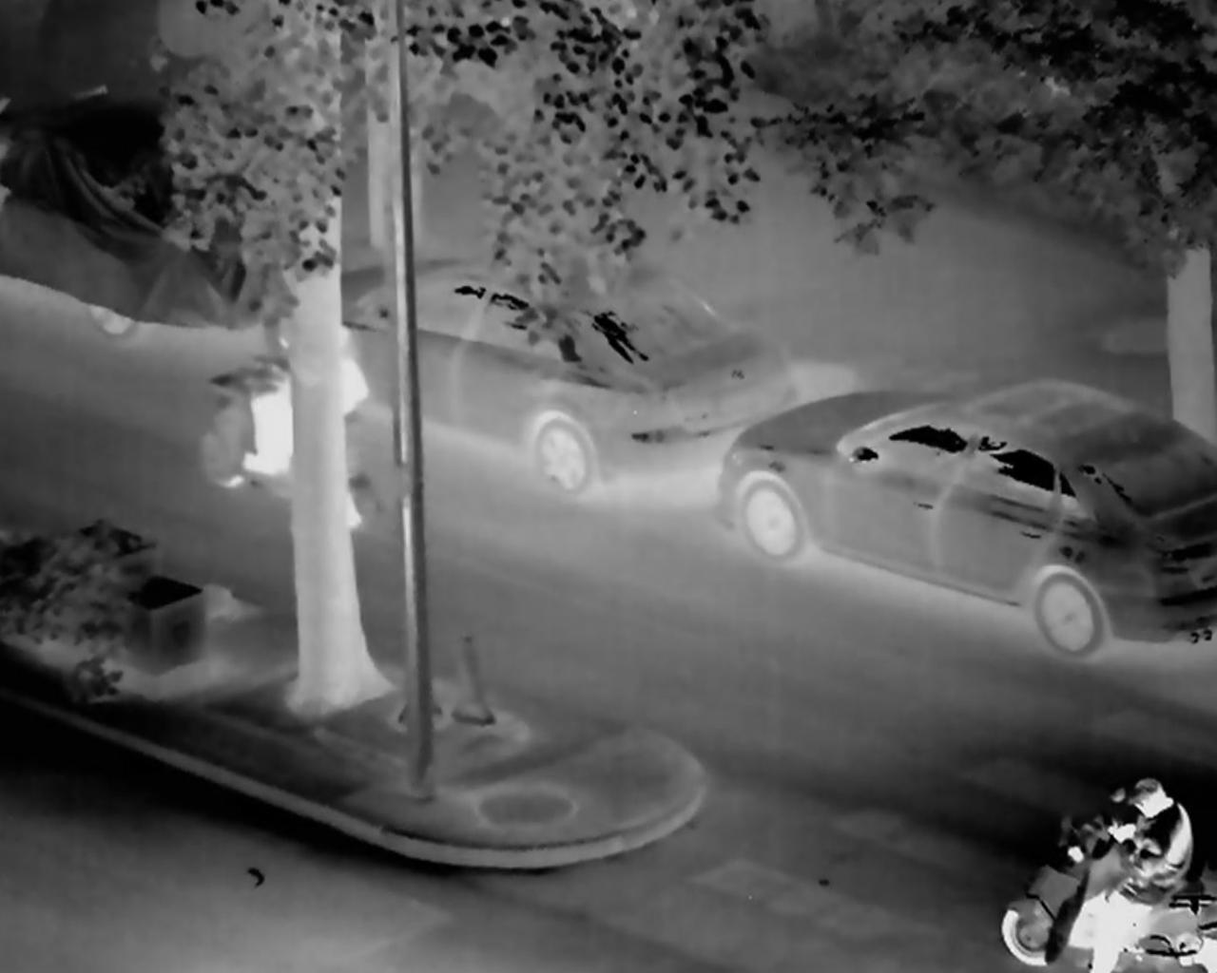person: (1059, 763, 1203, 973), (249, 313, 368, 471)
